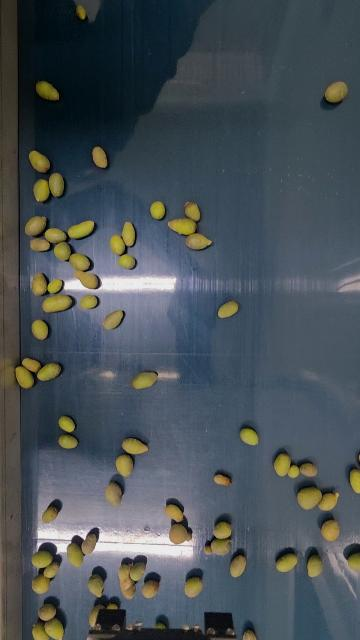Baby Potato: (296, 485, 324, 510), (40, 293, 74, 313), (117, 565, 136, 600), (325, 79, 350, 105), (168, 216, 200, 236), (67, 219, 95, 241), (35, 80, 61, 102), (131, 369, 158, 390), (185, 231, 213, 251), (276, 551, 300, 574), (28, 149, 51, 173), (75, 269, 100, 290), (36, 361, 62, 381), (122, 436, 149, 455), (169, 523, 191, 546), (25, 215, 48, 237), (320, 518, 341, 542), (14, 365, 35, 389), (104, 481, 124, 506), (115, 453, 134, 478), (32, 177, 50, 203), (274, 450, 292, 476), (103, 309, 124, 331), (217, 299, 240, 319), (48, 171, 65, 198), (229, 553, 247, 578), (67, 541, 84, 567), (206, 539, 232, 556), (320, 490, 340, 512), (69, 251, 91, 271), (30, 318, 49, 341), (45, 617, 64, 640), (306, 554, 324, 578), (30, 272, 48, 296), (184, 576, 203, 598), (122, 221, 137, 248), (239, 426, 259, 446), (183, 200, 202, 221), (31, 550, 53, 568), (44, 226, 67, 243), (92, 146, 108, 170), (165, 502, 184, 522), (30, 575, 50, 594), (87, 575, 104, 597), (57, 415, 76, 434), (213, 520, 232, 539), (142, 578, 160, 598), (345, 549, 360, 573), (82, 531, 97, 555), (54, 240, 71, 261), (130, 560, 147, 581), (28, 237, 51, 252), (38, 603, 57, 621), (149, 200, 166, 220), (109, 234, 125, 255), (348, 467, 360, 494), (21, 356, 40, 373), (79, 294, 99, 310), (58, 433, 78, 449), (299, 461, 319, 477), (31, 623, 49, 640), (117, 253, 136, 269), (42, 505, 58, 523), (43, 560, 59, 578), (88, 606, 100, 629), (47, 277, 63, 294), (214, 473, 232, 486), (241, 628, 260, 640), (288, 463, 301, 479), (76, 4, 87, 20), (107, 601, 118, 610)
